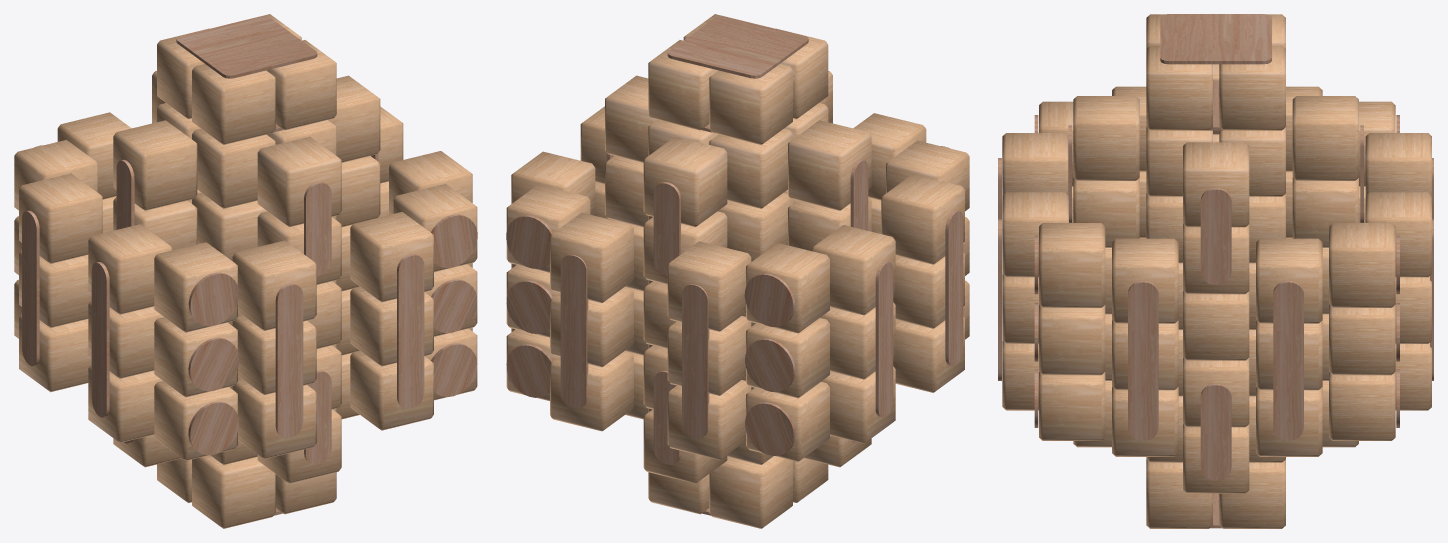
Rendered from level_91.fbx.
3 renders of one model, left to right at view 1: azimuth 30°, elevation 25°; view 2: azimuth 150°, elevation 25°; view 3: azimuth 270°, elevation 25°, orthographic. The views are drawn at different scales.
Visible parts, largest first — view 1: Cube.097, Cube.104, Cube.077, obj_obs_square.009, Cube.099, Cube.055, Cube.091, Cube.041, Cube.043, obj_obs_Y.008, Cube.039, Cube.096 (+48 smaller); view 2: Cube.097, Cube.102, Cube.043, obj_obs_square.009, Cube.100, Cube.065, Cube.079, Cube.089, Cube.077, Cube.075, Cube.094, Cube.059 (+47 smaller); view 3: obj_obs_square.009, Cube.063, Cube.099, Cube.051, Cube.100, obj_obs_Y.003, obj_obs_Y.004, Cube.103, Cube.101, Cube.098, Cube.058, Cube.046 (+40 smaller).
Boxes of the visible parts, box(x1,y1,x2,y2) form: Cube.097: box(113, 120, 197, 210); Cube.104: box(192, 64, 275, 144); Cube.077: box(19, 173, 102, 263); obj_obs_square.009: box(176, 16, 317, 78); Cube.099: box(257, 136, 341, 226); Cube.055: box(350, 212, 433, 302); Cube.091: box(192, 455, 275, 528); Cube.041: box(232, 240, 316, 330); Cube.043: box(88, 224, 172, 314); obj_obs_Y.008: box(275, 283, 303, 438); Cube.039: box(154, 242, 237, 332); Cube.096: box(192, 129, 275, 208); Cube.097: box(788, 120, 871, 210); Cube.102: box(709, 64, 792, 144); Cube.043: box(881, 174, 964, 264); obj_obs_square.009: box(667, 16, 808, 78); Cube.100: box(643, 136, 727, 227); Cube.065: box(550, 212, 633, 302); Cube.079: box(667, 241, 751, 331); Cube.089: box(709, 456, 792, 528); Cube.077: box(812, 225, 895, 315); Cube.075: box(746, 243, 829, 333); Cube.094: box(709, 129, 792, 208); Cube.059: box(550, 351, 633, 431); obj_obs_square.009: box(1160, 14, 1271, 64); Cube.063: box(1329, 223, 1395, 307); Cube.099: box(1073, 96, 1139, 180); Cube.051: box(1039, 223, 1105, 307); Cube.100: box(1292, 96, 1358, 180); obj_obs_Y.003: box(1128, 281, 1158, 440); obj_obs_Y.004: box(1273, 281, 1303, 440); Cube.103: box(1146, 45, 1212, 130); Cube.101: box(1219, 45, 1285, 130); Cube.098: box(1183, 142, 1249, 227); Cube.058: box(1329, 304, 1395, 375); Cube.046: box(1039, 305, 1105, 375).
Size of the model in its own units: 13.11 by 15.51 by 13.11.
